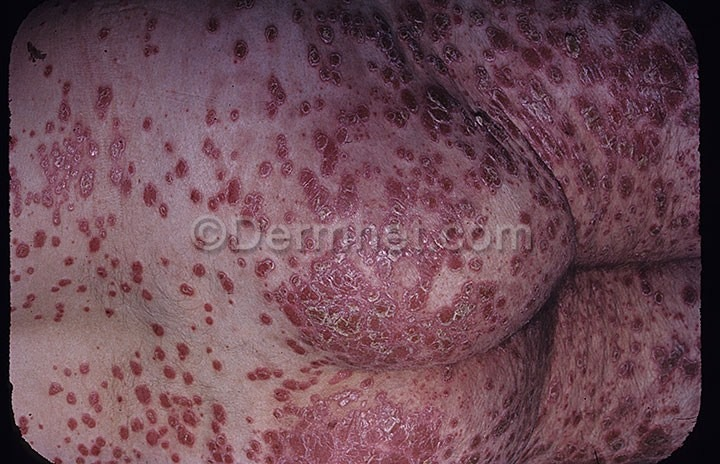Psoriasis: (257, 8, 681, 457), (20, 34, 221, 324), (44, 332, 248, 459)
